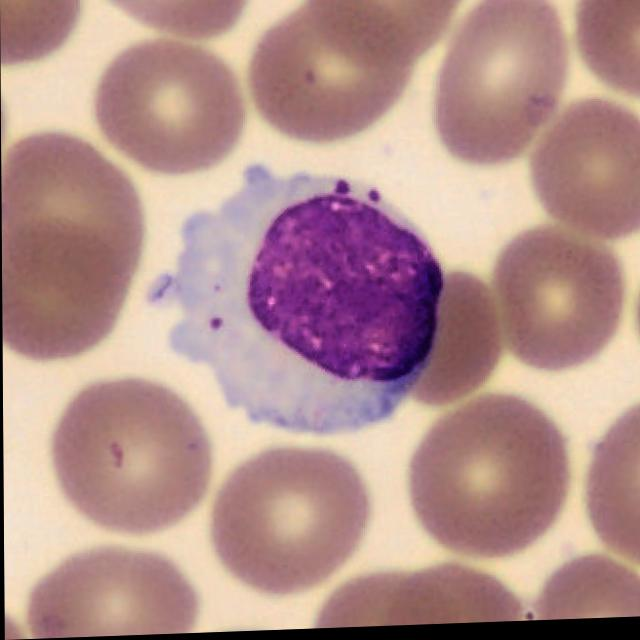Linfocito atipico: (158, 180, 443, 435)
